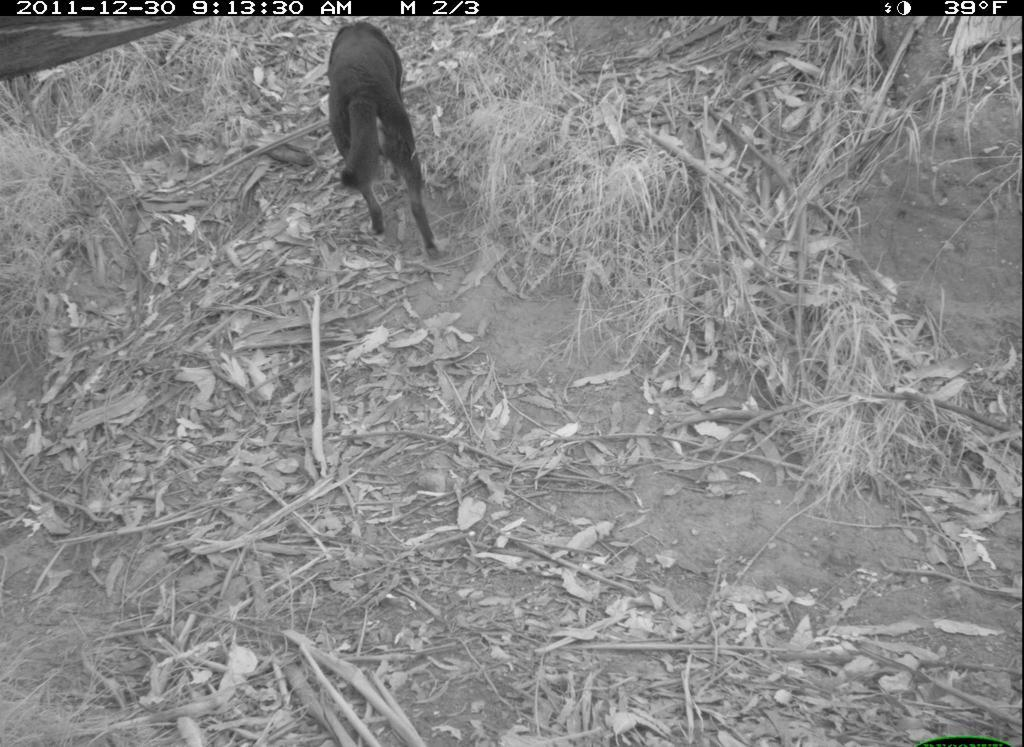dog: (308, 9, 451, 281)
